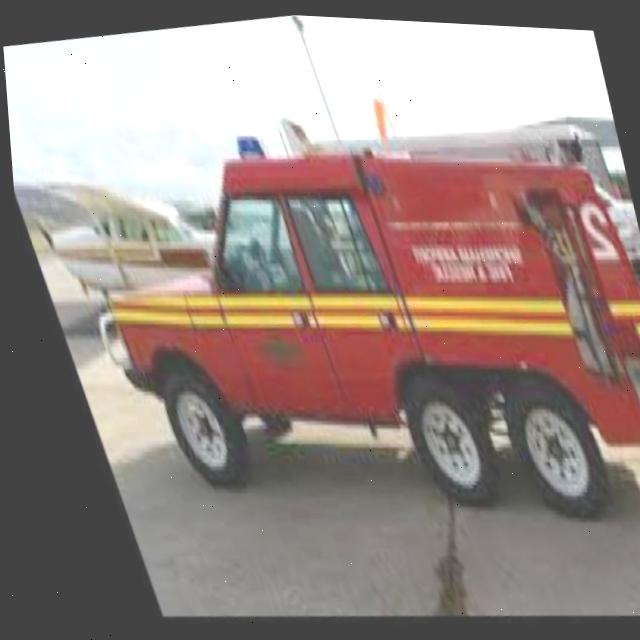emergency: (47, 51, 640, 583)
